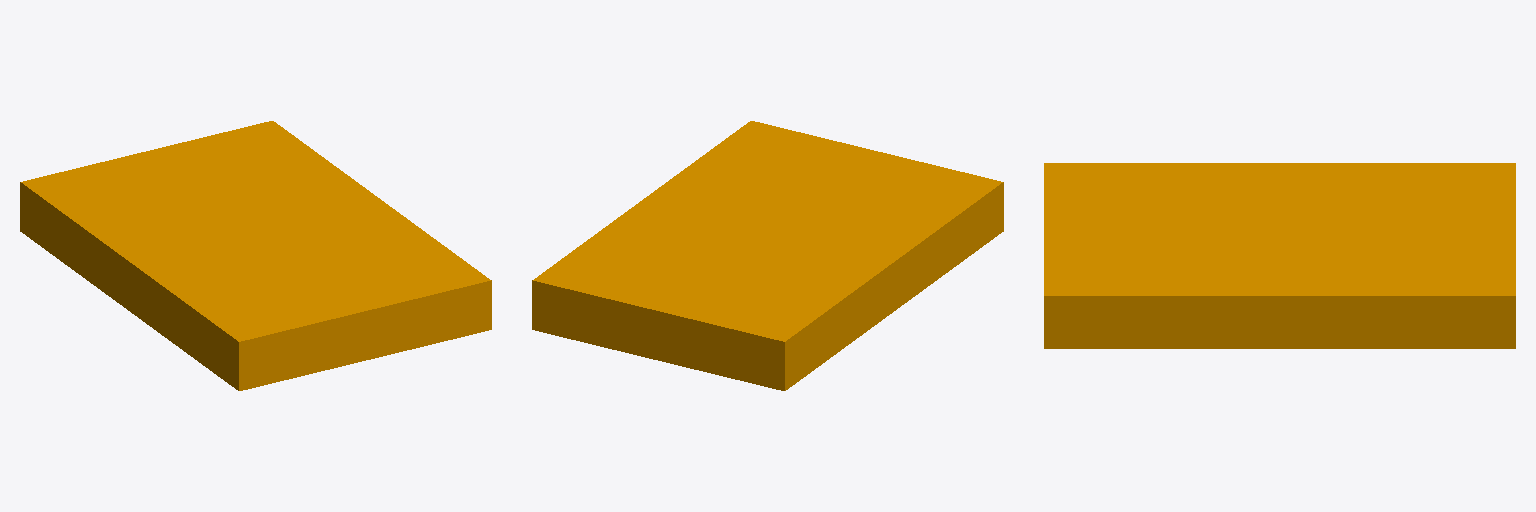
URDF robot description (gown_holder_tool):
<?xml version="1.0" ?>
<robot name="gown_holder_tool">
  <link name ="rectangle_bit">
    <!--<inertial>
        <mass value="3.92"/>
        <origin
                xyz="0.0 0.07825 0.0"
                rpy="0 0 0" />
    </inertial>-->
    <visual name="visual">
      <origin
        xyz="0.0 0.0 0.0"
        rpy="0 0 0" />
      <geometry>
        <box size="0.08 0.12 0.015"/>
      </geometry>
      <!--<color>1.0 0.5 0.0</color>-->
    </visual>
    <collision name="collision">
      <origin
        xyz="0.0 0.0 0."
        rpy="0 0 0" />
      <geometry>
        <box size="0.08 0.12 0.015"/>
      </geometry>
    </collision>
  </link>
</robot>

--- Facts derived from the render (not from the file) ---
The picture shows the robot from 3 angles, left to right: view 1: azimuth 30°, elevation 25°; view 2: azimuth 150°, elevation 25°; view 3: azimuth 270°, elevation 25°; orthographic projection.
Robot: gown_holder_tool — 1 links, 0 joints (none); root link rectangle_bit; default pose: every joint at zero.
Links seen in each view (by area): view 1: rectangle_bit; view 2: rectangle_bit; view 3: rectangle_bit.
Boxes of the visible links, x1,y1,x2,y2 form: rectangle_bit: (20,121,491,390); rectangle_bit: (532,121,1003,390); rectangle_bit: (1044,163,1515,348).
Size in the robot's own frame: 0.08 by 0.12 by 0.015 metres.
Geometry: primitives only (box / cylinder / sphere), no mesh files.